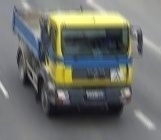truck: (14, 9, 143, 117)
